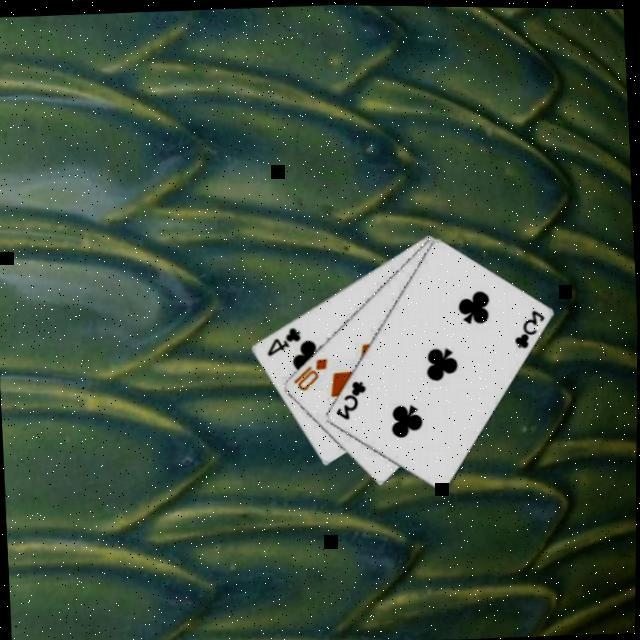10D: (288, 351, 331, 392)
3C: (509, 302, 548, 348), (331, 374, 369, 420)
4C: (262, 321, 304, 357)
